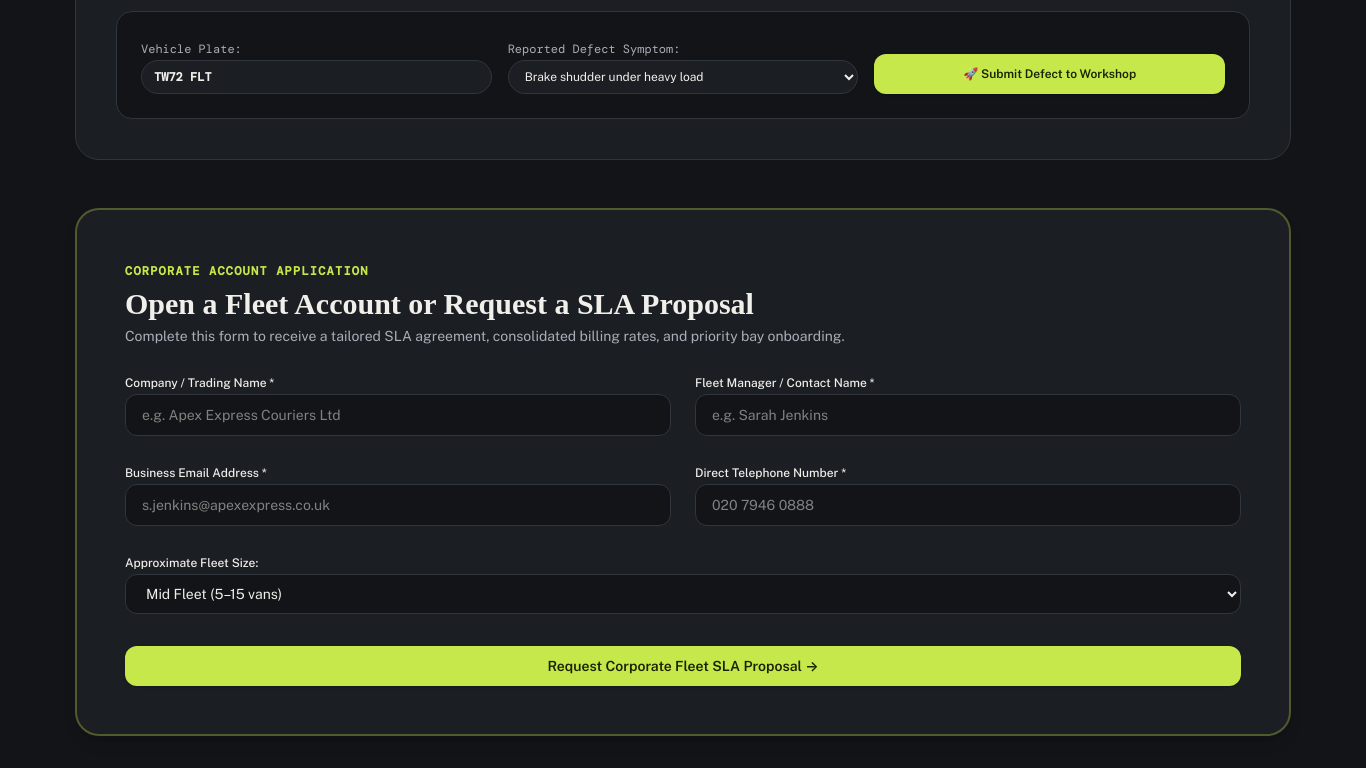
Test: Fleet & Commercial Services (/fleet) › submits corporate fleet account application form and displays confirmation reference
This screenshot has width=1366, height=768.
(page scrolled)
Type "Metro Express Ltd" into the field with placeholder "e.g. Apex Express Couriers Ltd" at [398, 415], box 125,394 -> 671,436
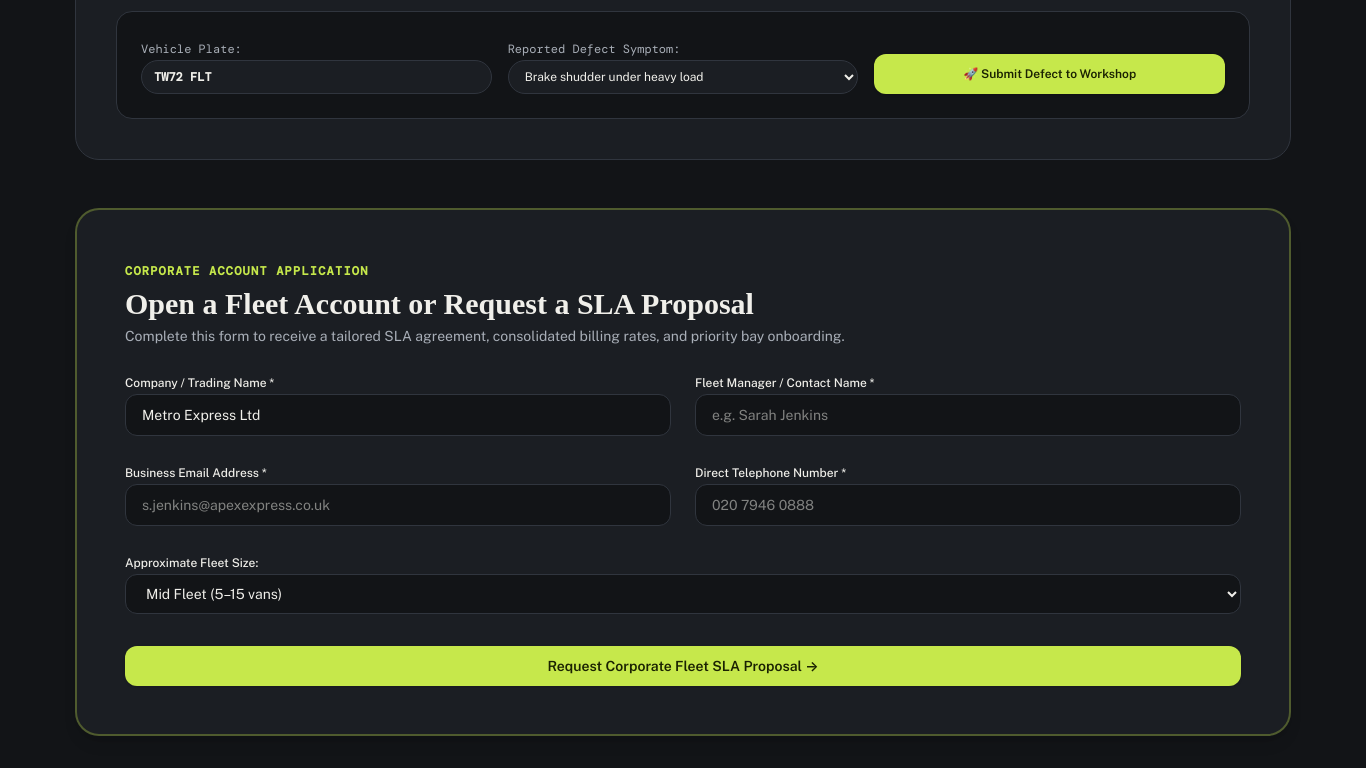
Type "David Miller" into the field with placeholder "e.g. Sarah Jenkins" at [968, 415], box 695,394 -> 1241,436
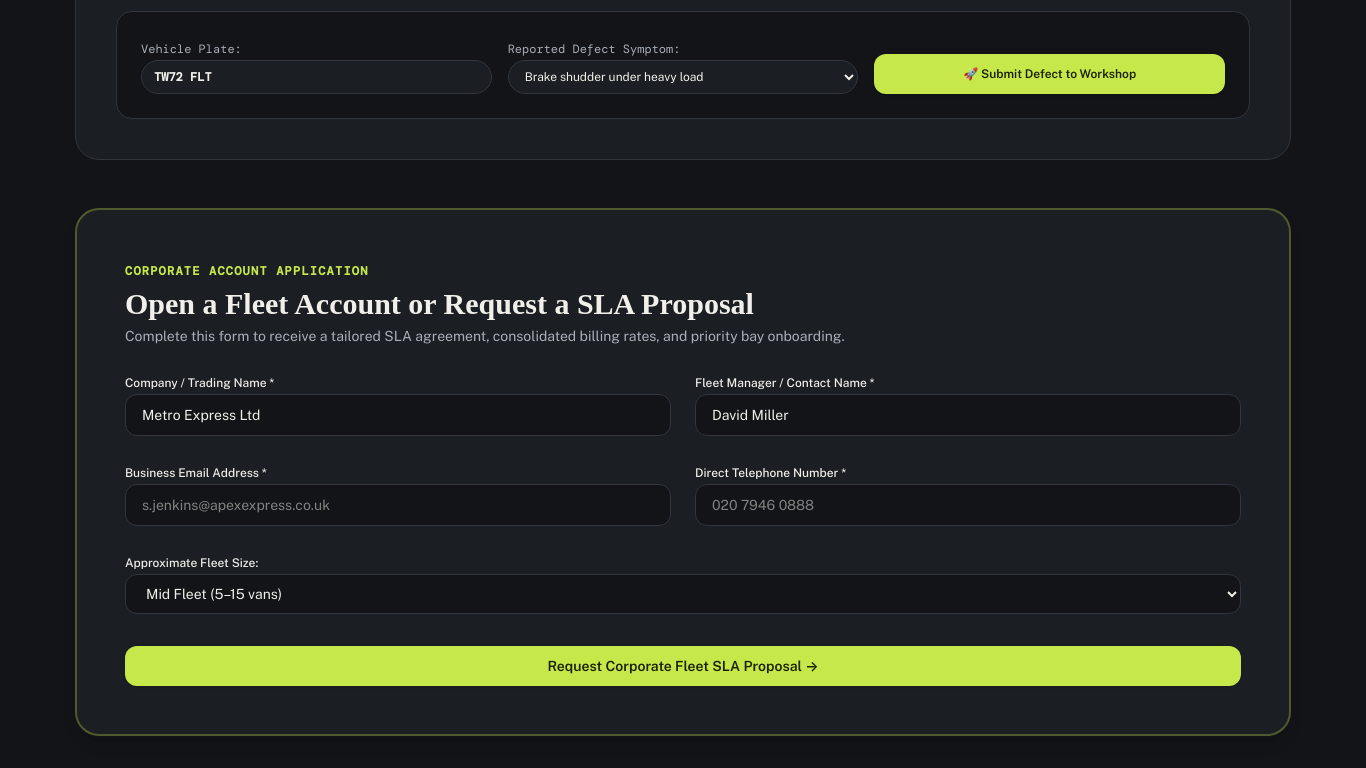
Type "d.miller@metroexpress.co.uk" into the field with placeholder "s.jenkins@apexexpress.co.uk" at [398, 505], box 125,484 -> 671,526
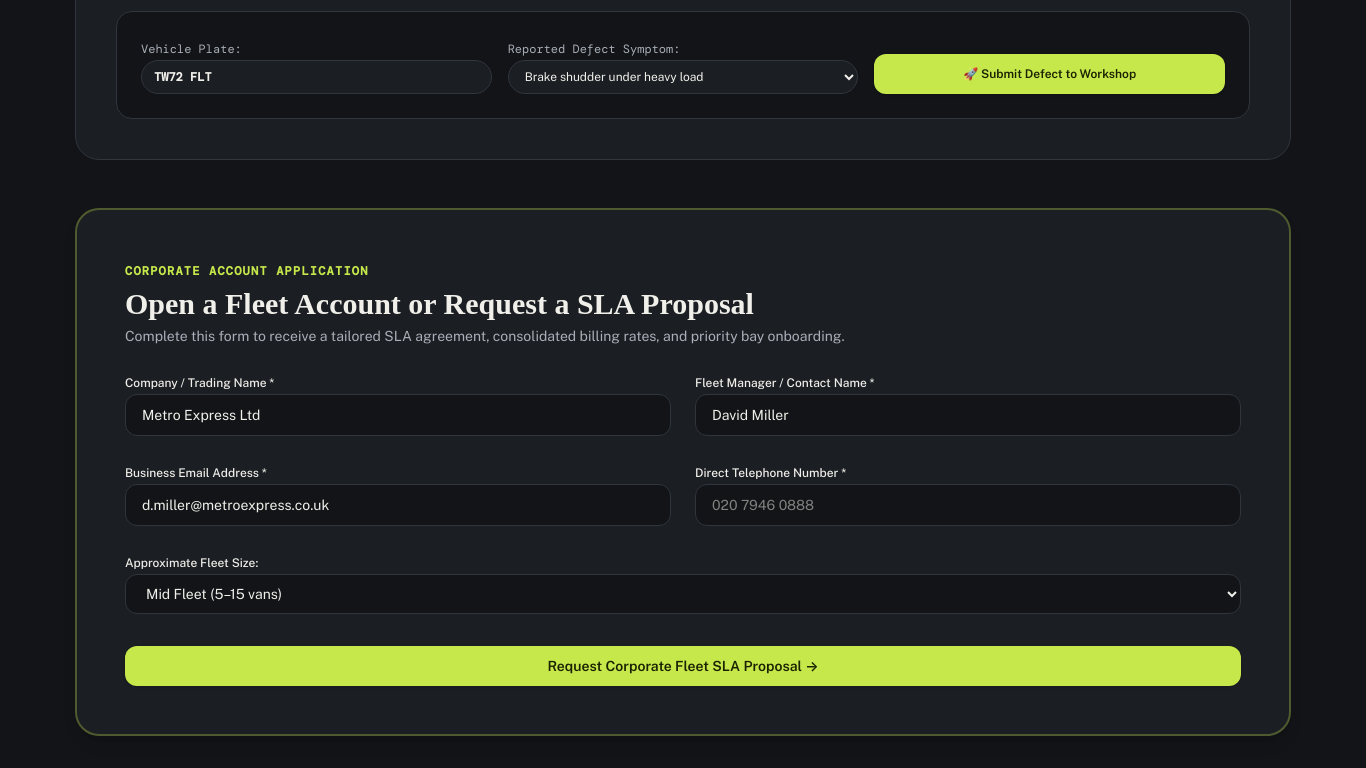
Type "07700 900123" into the field with placeholder "020 7946 0888" at [968, 505], box 695,484 -> 1241,526
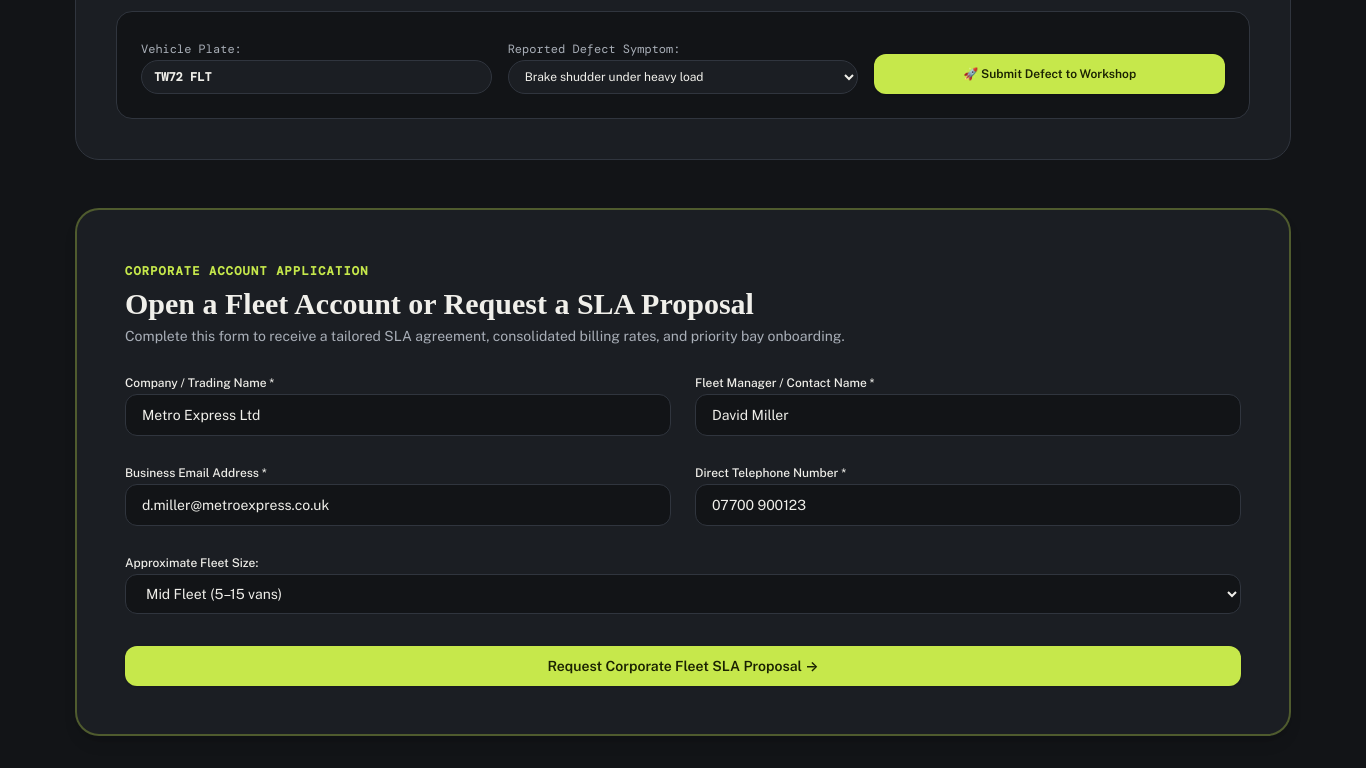
Click the button "Request Corporate Fleet SLA Proposal →" at [683, 666], box 125,646 -> 1241,686
(page scrolled)
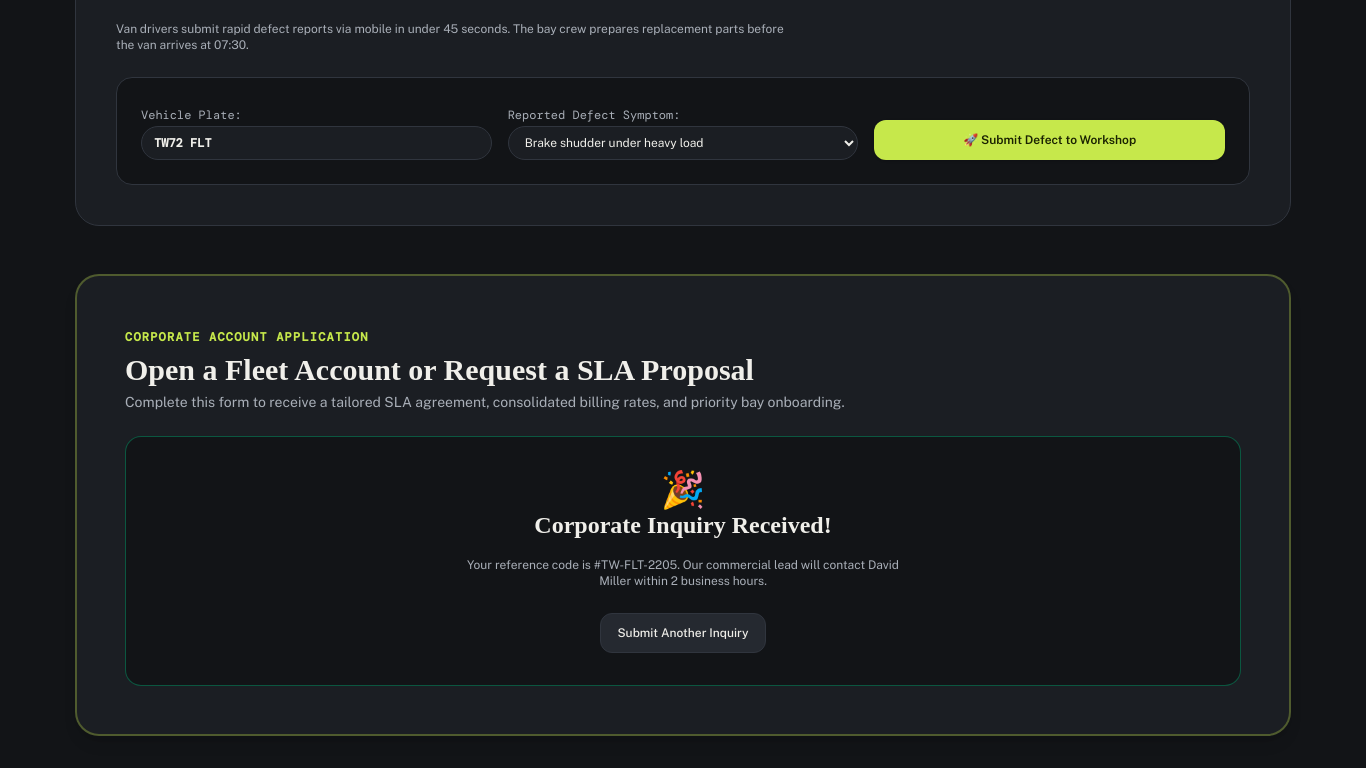
Expected: the heading "Corporate Inquiry Received!" is shown, 534,512 -> 832,538
Expected: the text "TW-FLT-" is shown, 467,558 -> 899,588
